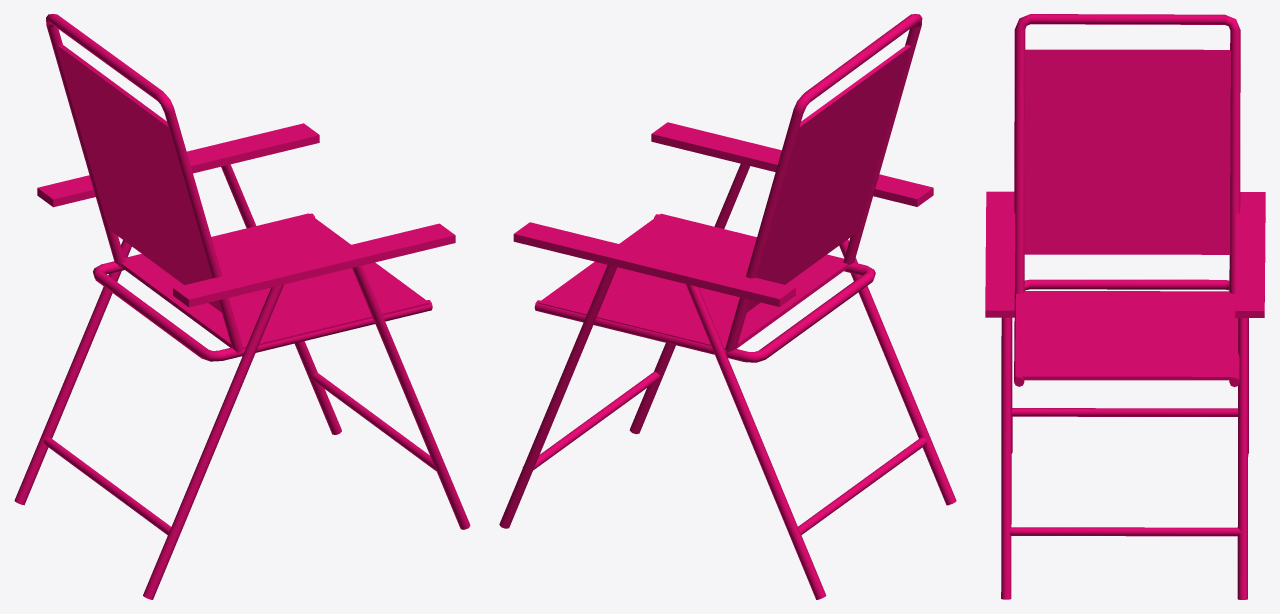
Rendered from Chair_01_Lod0.fbx.
The picture shows the model from 3 angles, left to right: view 1: azimuth 30°, elevation 25°; view 2: azimuth 150°, elevation 25°; view 3: azimuth 270°, elevation 25°; orthographic projection. The views are drawn at different scales.
Parts seen in each view (by area): view 1: Chair_01_Lod0; view 2: Chair_01_Lod0; view 3: Chair_01_Lod0.
Boxes of the visible parts, <box> form: Chair_01_Lod0: <box>14,14,470,599</box>; Chair_01_Lod0: <box>499,14,956,599</box>; Chair_01_Lod0: <box>985,14,1265,599</box>.
Size of the model in its own units: 69.88 by 102 by 56.79.
